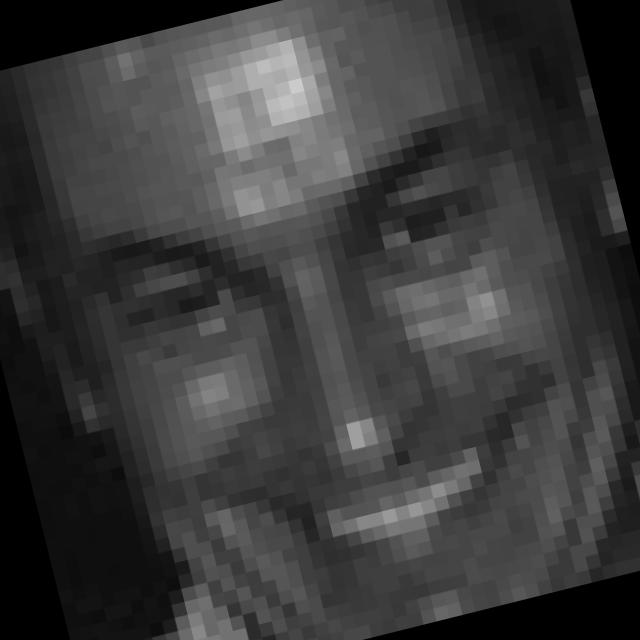happy: (63, 93, 620, 640)
